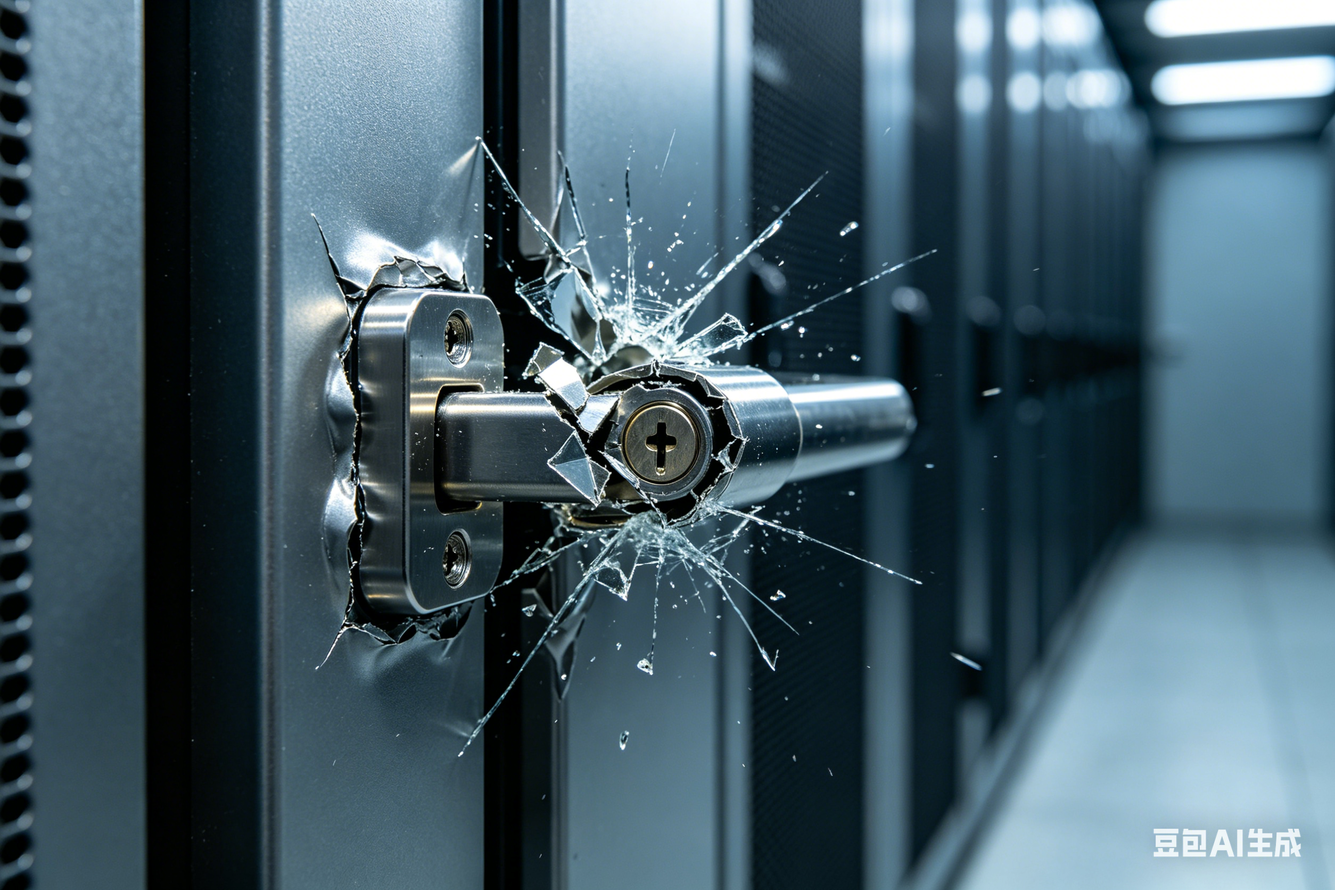BadLock: (449, 351, 827, 529)
